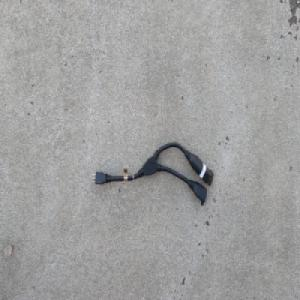Wire: (89, 140, 214, 207)
